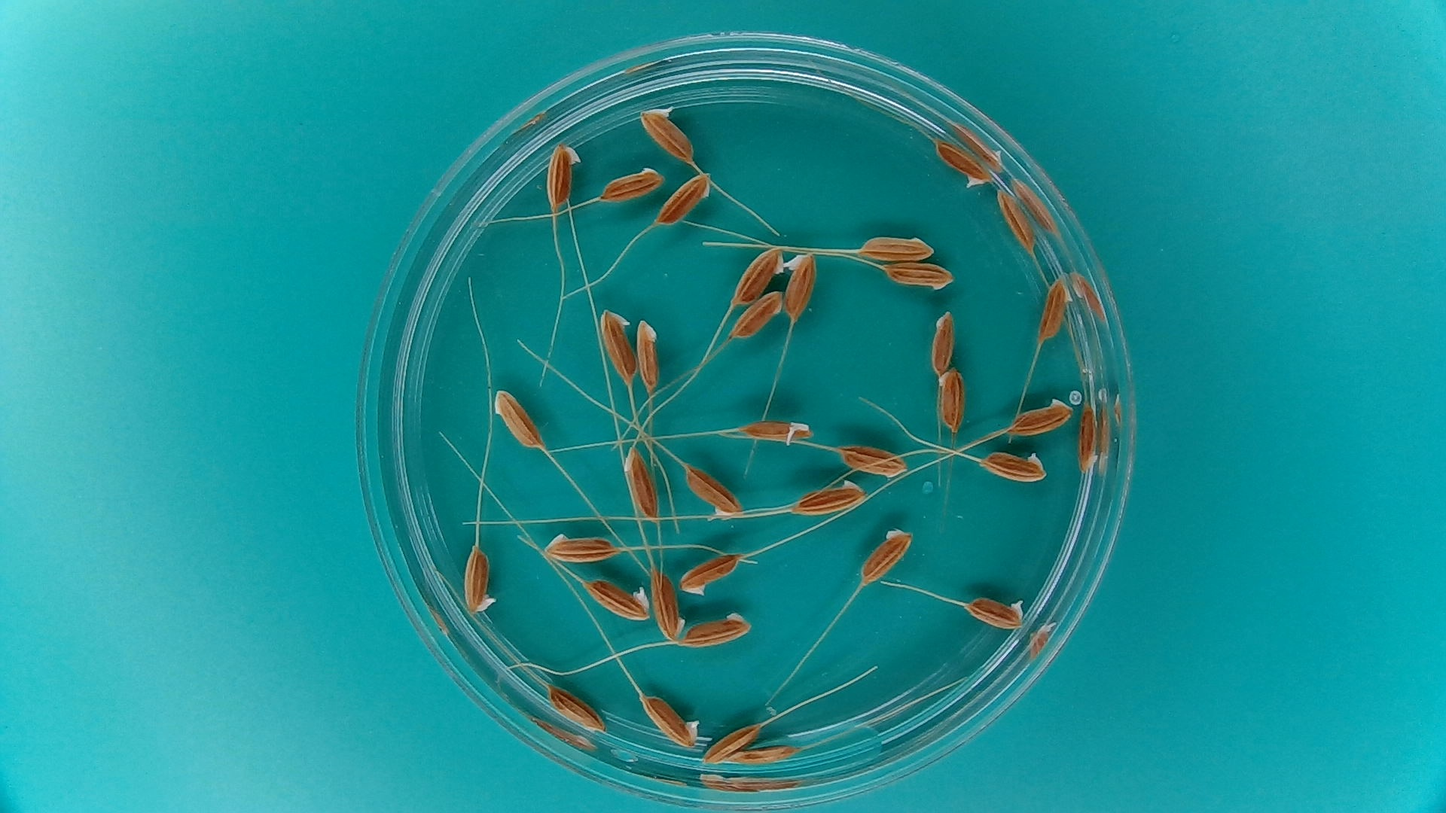no: (637, 691, 703, 749), (730, 242, 786, 307), (654, 169, 715, 227), (857, 525, 915, 586), (621, 440, 662, 525), (786, 479, 873, 519), (490, 388, 545, 450), (596, 305, 638, 382), (547, 682, 608, 735), (676, 551, 742, 597), (727, 288, 784, 341), (995, 186, 1038, 254), (598, 163, 667, 204), (462, 544, 499, 620), (545, 138, 581, 215), (648, 563, 682, 643), (541, 529, 621, 563), (701, 720, 762, 764), (1036, 274, 1073, 346), (1005, 399, 1073, 437), (854, 232, 936, 263), (680, 613, 752, 647), (837, 444, 910, 477), (879, 261, 955, 292), (927, 306, 958, 379), (636, 315, 664, 393), (963, 595, 1027, 629), (934, 361, 963, 436), (979, 450, 1044, 483), (1075, 400, 1100, 477), (731, 743, 804, 763)
yes: (639, 104, 699, 167), (681, 463, 744, 521), (933, 133, 994, 187), (581, 577, 651, 622), (778, 252, 818, 318), (736, 416, 811, 446)
